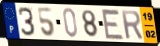0: (62, 7, 79, 39)
3: (18, 6, 37, 37)
5: (36, 7, 56, 39)
8: (80, 9, 100, 38)
E: (100, 8, 125, 41)
R: (120, 9, 145, 40)
